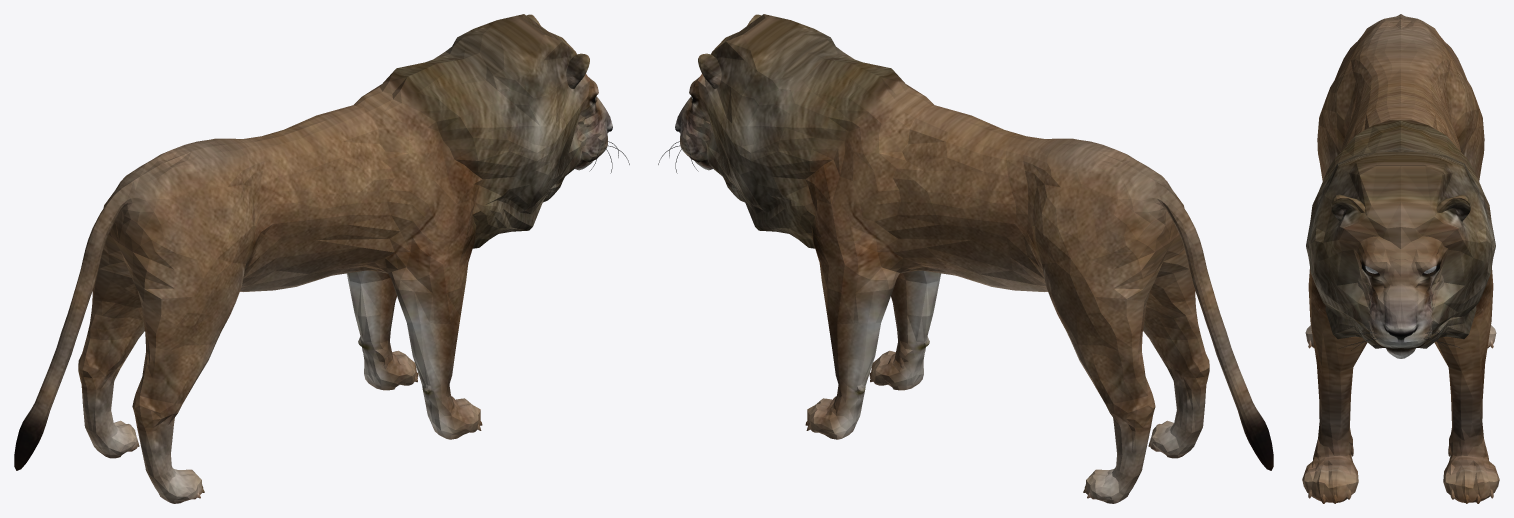
Rendered from lio.gltf.
3 renders of one model, left to right at view 1: azimuth 30°, elevation 25°; view 2: azimuth 150°, elevation 25°; view 3: azimuth 270°, elevation 25°, orthographic. The views are drawn at different scales.
Size of the model in its own units: 2.5 by 1.42 by 0.6576.
5 materials, 5 textured.
